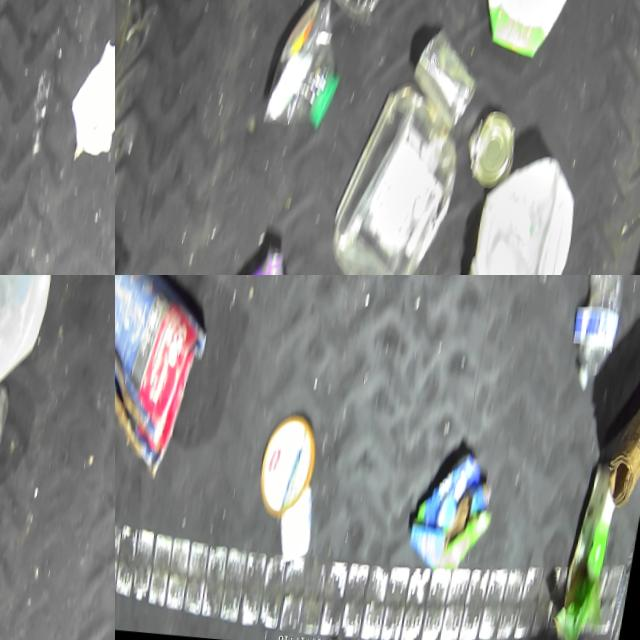can: (404, 23, 486, 133), (460, 107, 523, 190)
milk_jug: (462, 150, 587, 275), (0, 275, 64, 389)
non_white_jug: (472, 0, 573, 64)
plastic_bottle: (257, 0, 356, 138), (570, 275, 635, 396)
